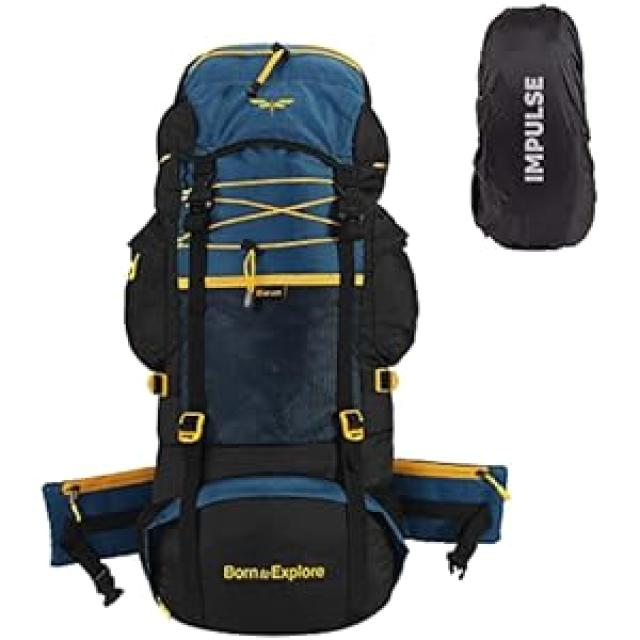backpack: (41, 42, 511, 637), (471, 3, 597, 251)
